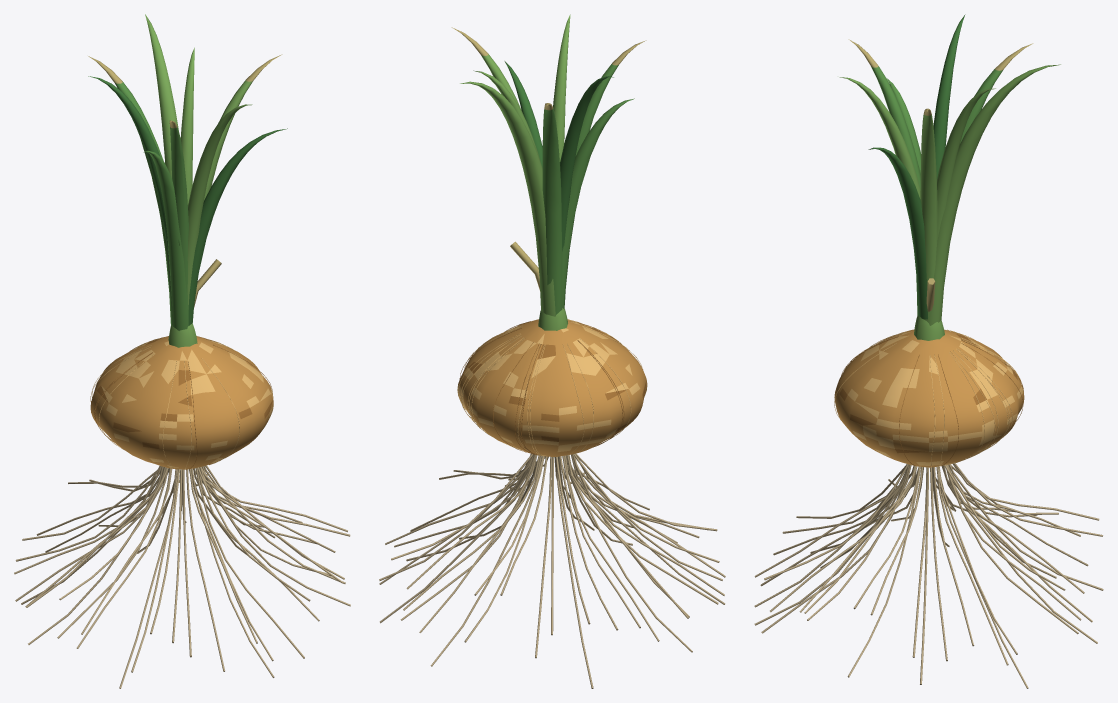
Rendered from onion_plant.glb.
The picture shows the model from 3 angles, left to right: view 1: azimuth 30°, elevation 25°; view 2: azimuth 150°, elevation 25°; view 3: azimuth 270°, elevation 25°; orthographic projection. The views are drawn at different scales.
Parts seen in each view (by area): view 1: OwnerOnionPlant; view 2: OwnerOnionPlant; view 3: OwnerOnionPlant.
Part boxes in pixels (left/top/right/bottom): OwnerOnionPlant: left=14, top=14, right=350, bottom=688; OwnerOnionPlant: left=379, top=14, right=725, bottom=688; OwnerOnionPlant: left=754, top=14, right=1103, bottom=688.
Bounding box in the file's own units: 0.6911 × 1.27 × 0.6931.
